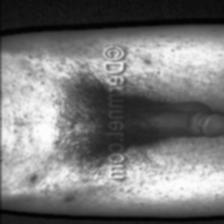Toxin: (25, 173, 49, 187), (56, 194, 78, 201)
